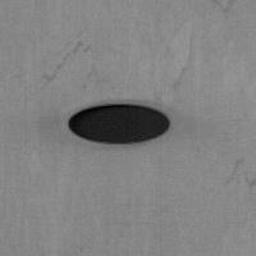Punching: (69, 104, 169, 143)
